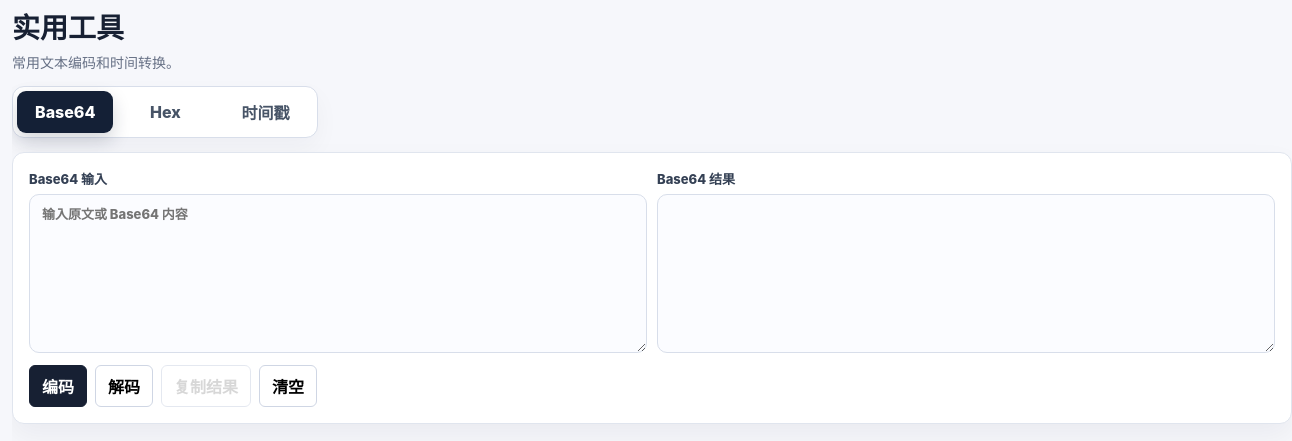
Scenario: encodes and decodes base64 text with unicode content
The width and height of the screenshot is (1292, 441).
Type "你好 Passion" into the text box labelled "Base64 输入" at (338,273), box [29,194,647,353]
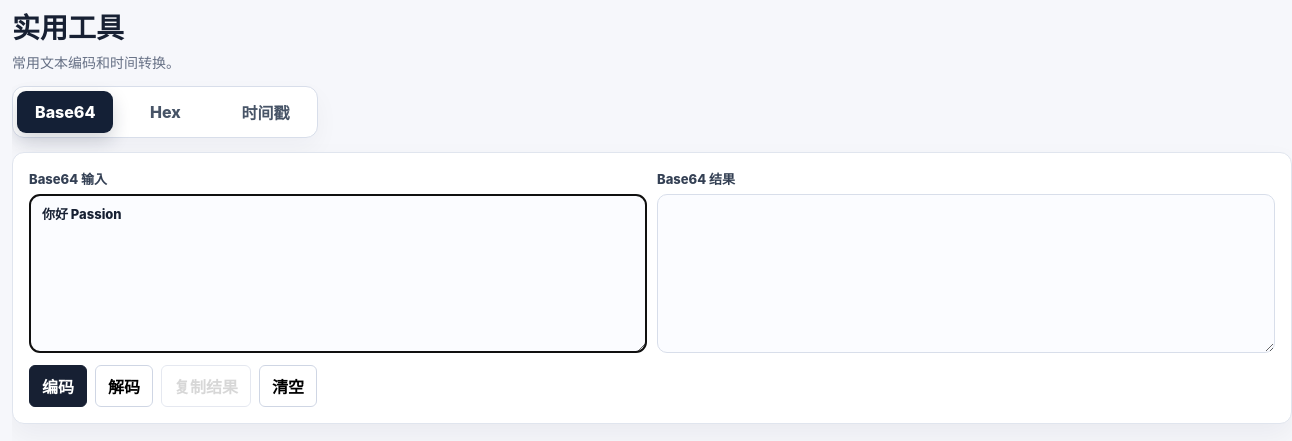
Click the button "编码" at (58,386), box [29,365,87,407]
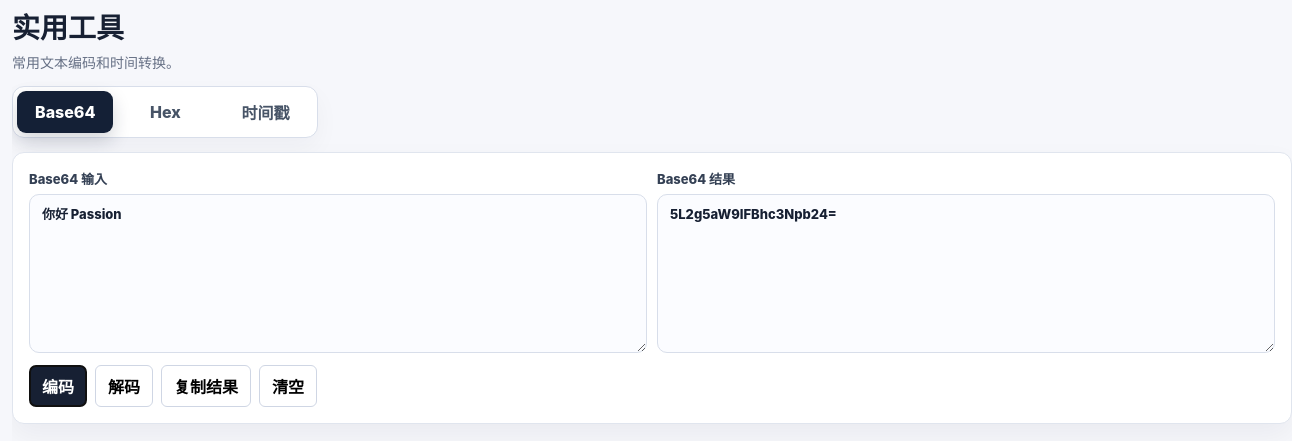
Result: the text box labelled "Base64 结果" holds "5L2g5aW9IFBhc3Npb24=" at [657,194,1275,353]
Replace the text in the text box labelled "Base64 输入" with "5L2g5aW9IFBhc3Npb24=" at (338,273), box [29,194,647,353]
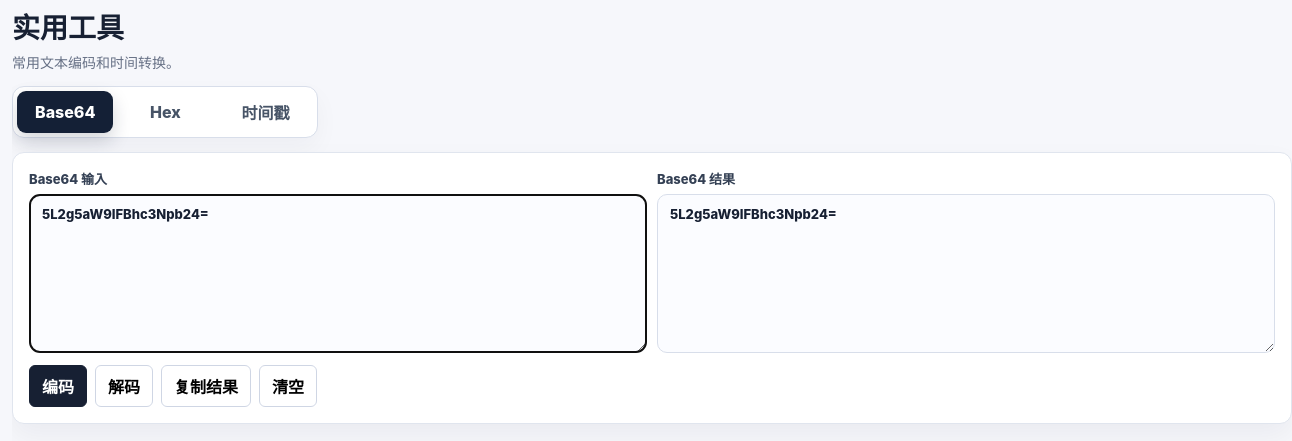
Click the button "解码" at (124,386), box [95,365,153,407]
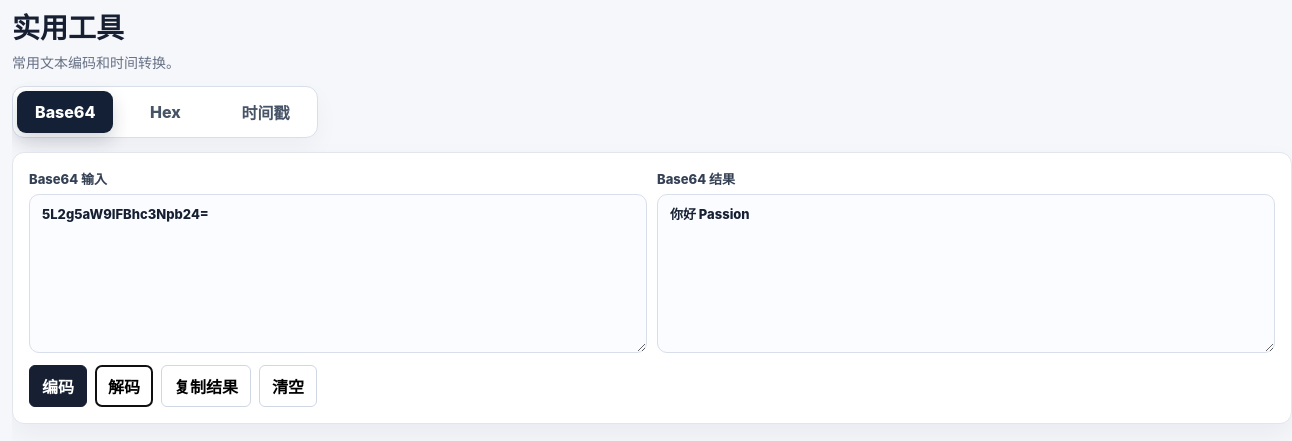
Result: the text box labelled "Base64 结果" holds "你好 Passion" at [657,194,1275,353]
